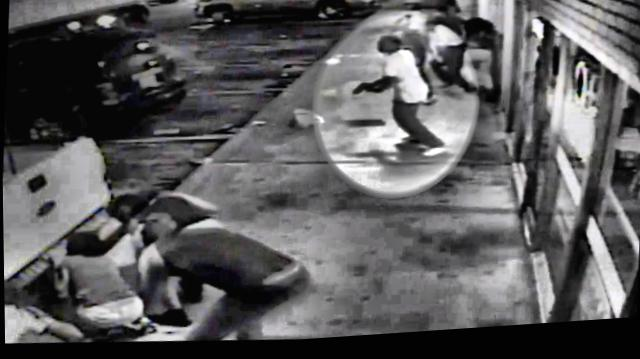pistol: (351, 86, 371, 98)
